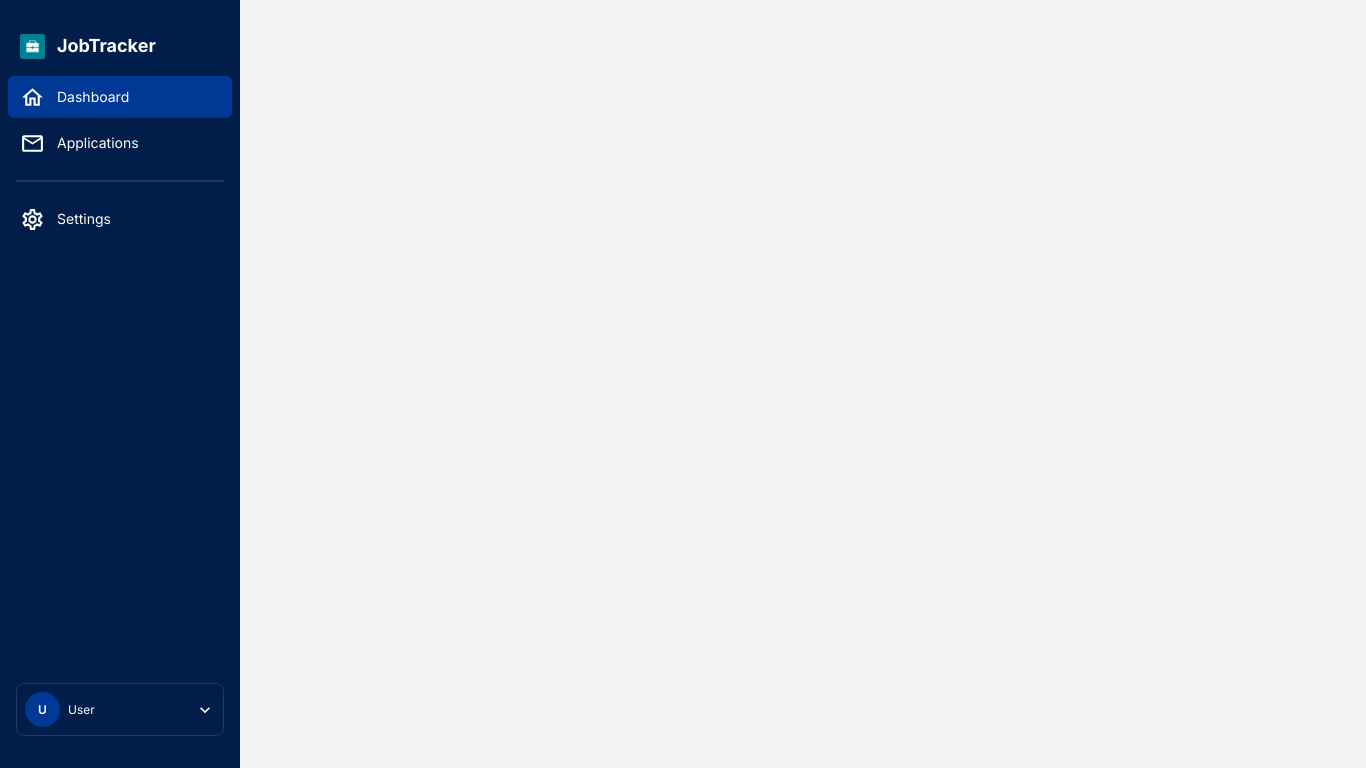
Test: nav › navigates to settings
Click the link "Settings" at (66, 219), box top-left (20, 206), bottom-right (111, 232)
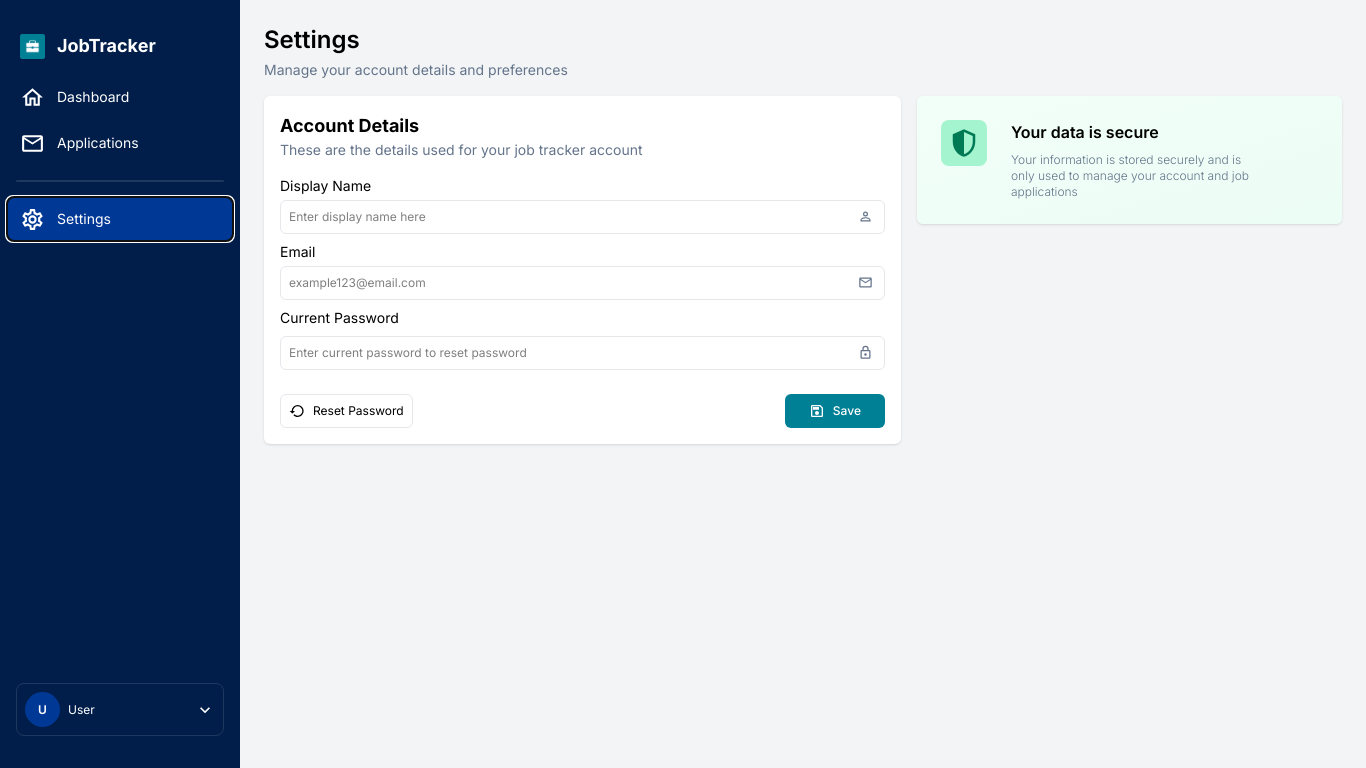
Expected: the heading "Settings" is shown, top-left (264, 24), bottom-right (360, 56)
